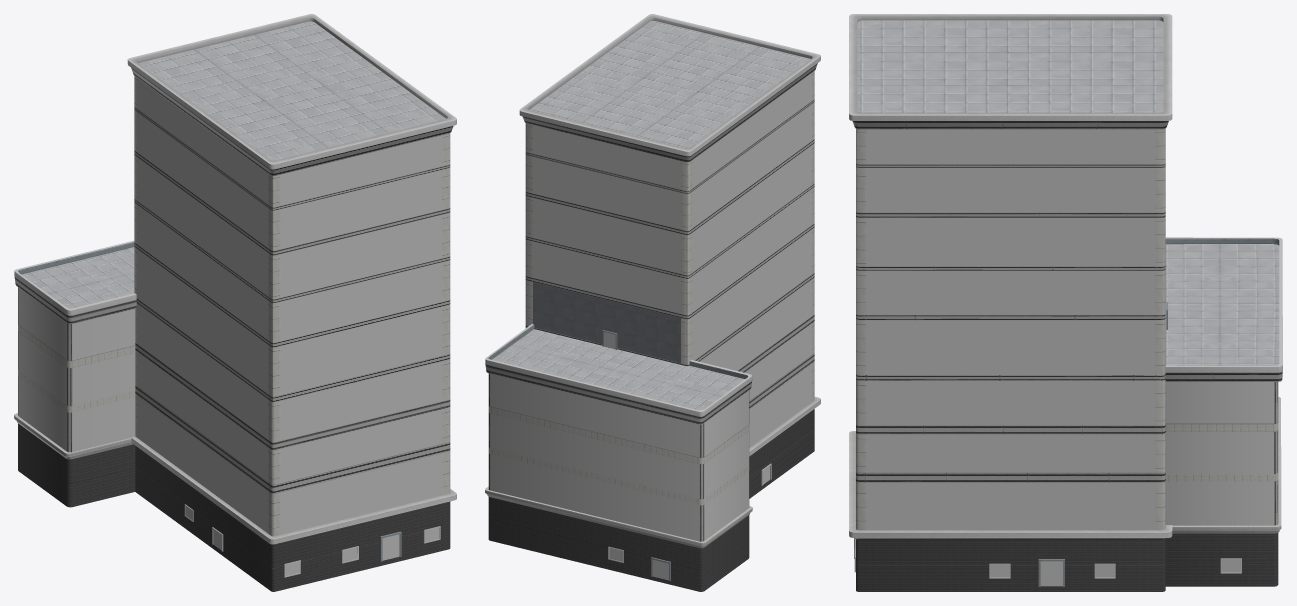
Rendered from HouseBL.fbx.
3 views of the same model, side by side, from view 1: azimuth 30°, elevation 25°; view 2: azimuth 150°, elevation 25°; view 3: azimuth 270°, elevation 25° (orthographic). The views are drawn at different scales.
Parts seen in each view (by area): view 1: HouseBL; view 2: HouseBL; view 3: HouseBL.
Boxes of the visible parts, bbox=[...] form: HouseBL: bbox=[14, 14, 456, 591]; HouseBL: bbox=[485, 14, 820, 591]; HouseBL: bbox=[849, 14, 1282, 591].
Size of what is drawn, in the model's own units: 44.75 by 73.04 by 59.97.
